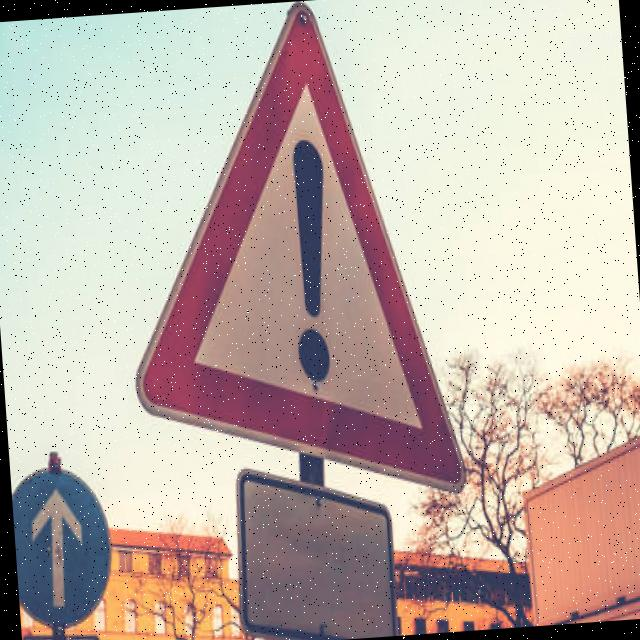warning: (116, 0, 475, 519)
